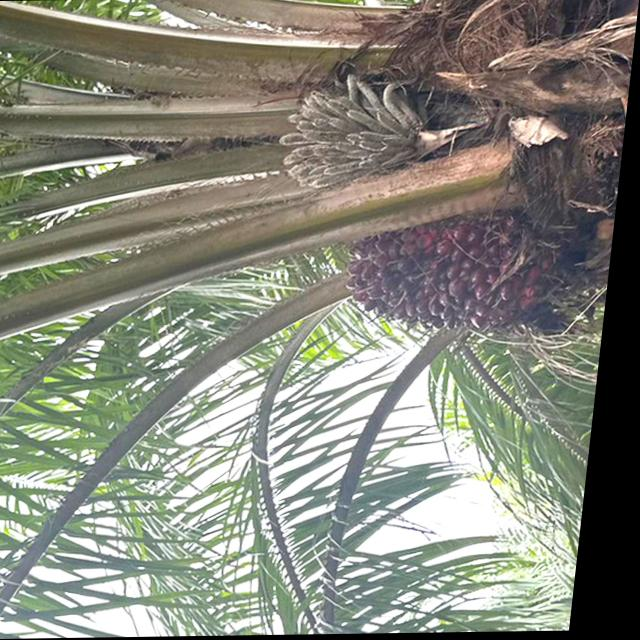ripe: (326, 202, 579, 351)
